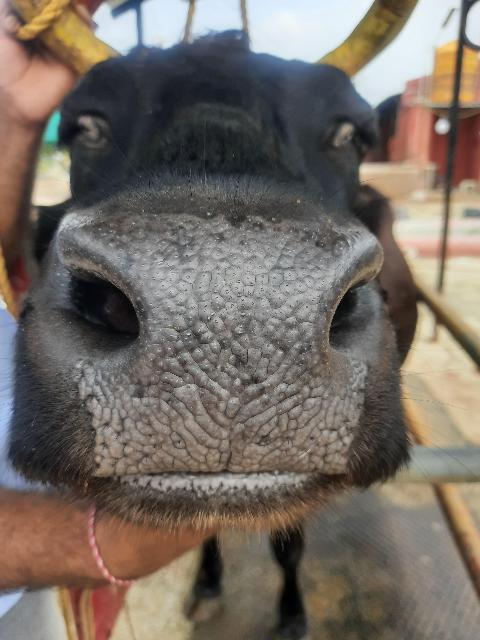Muzzle: (116, 214, 336, 476)
